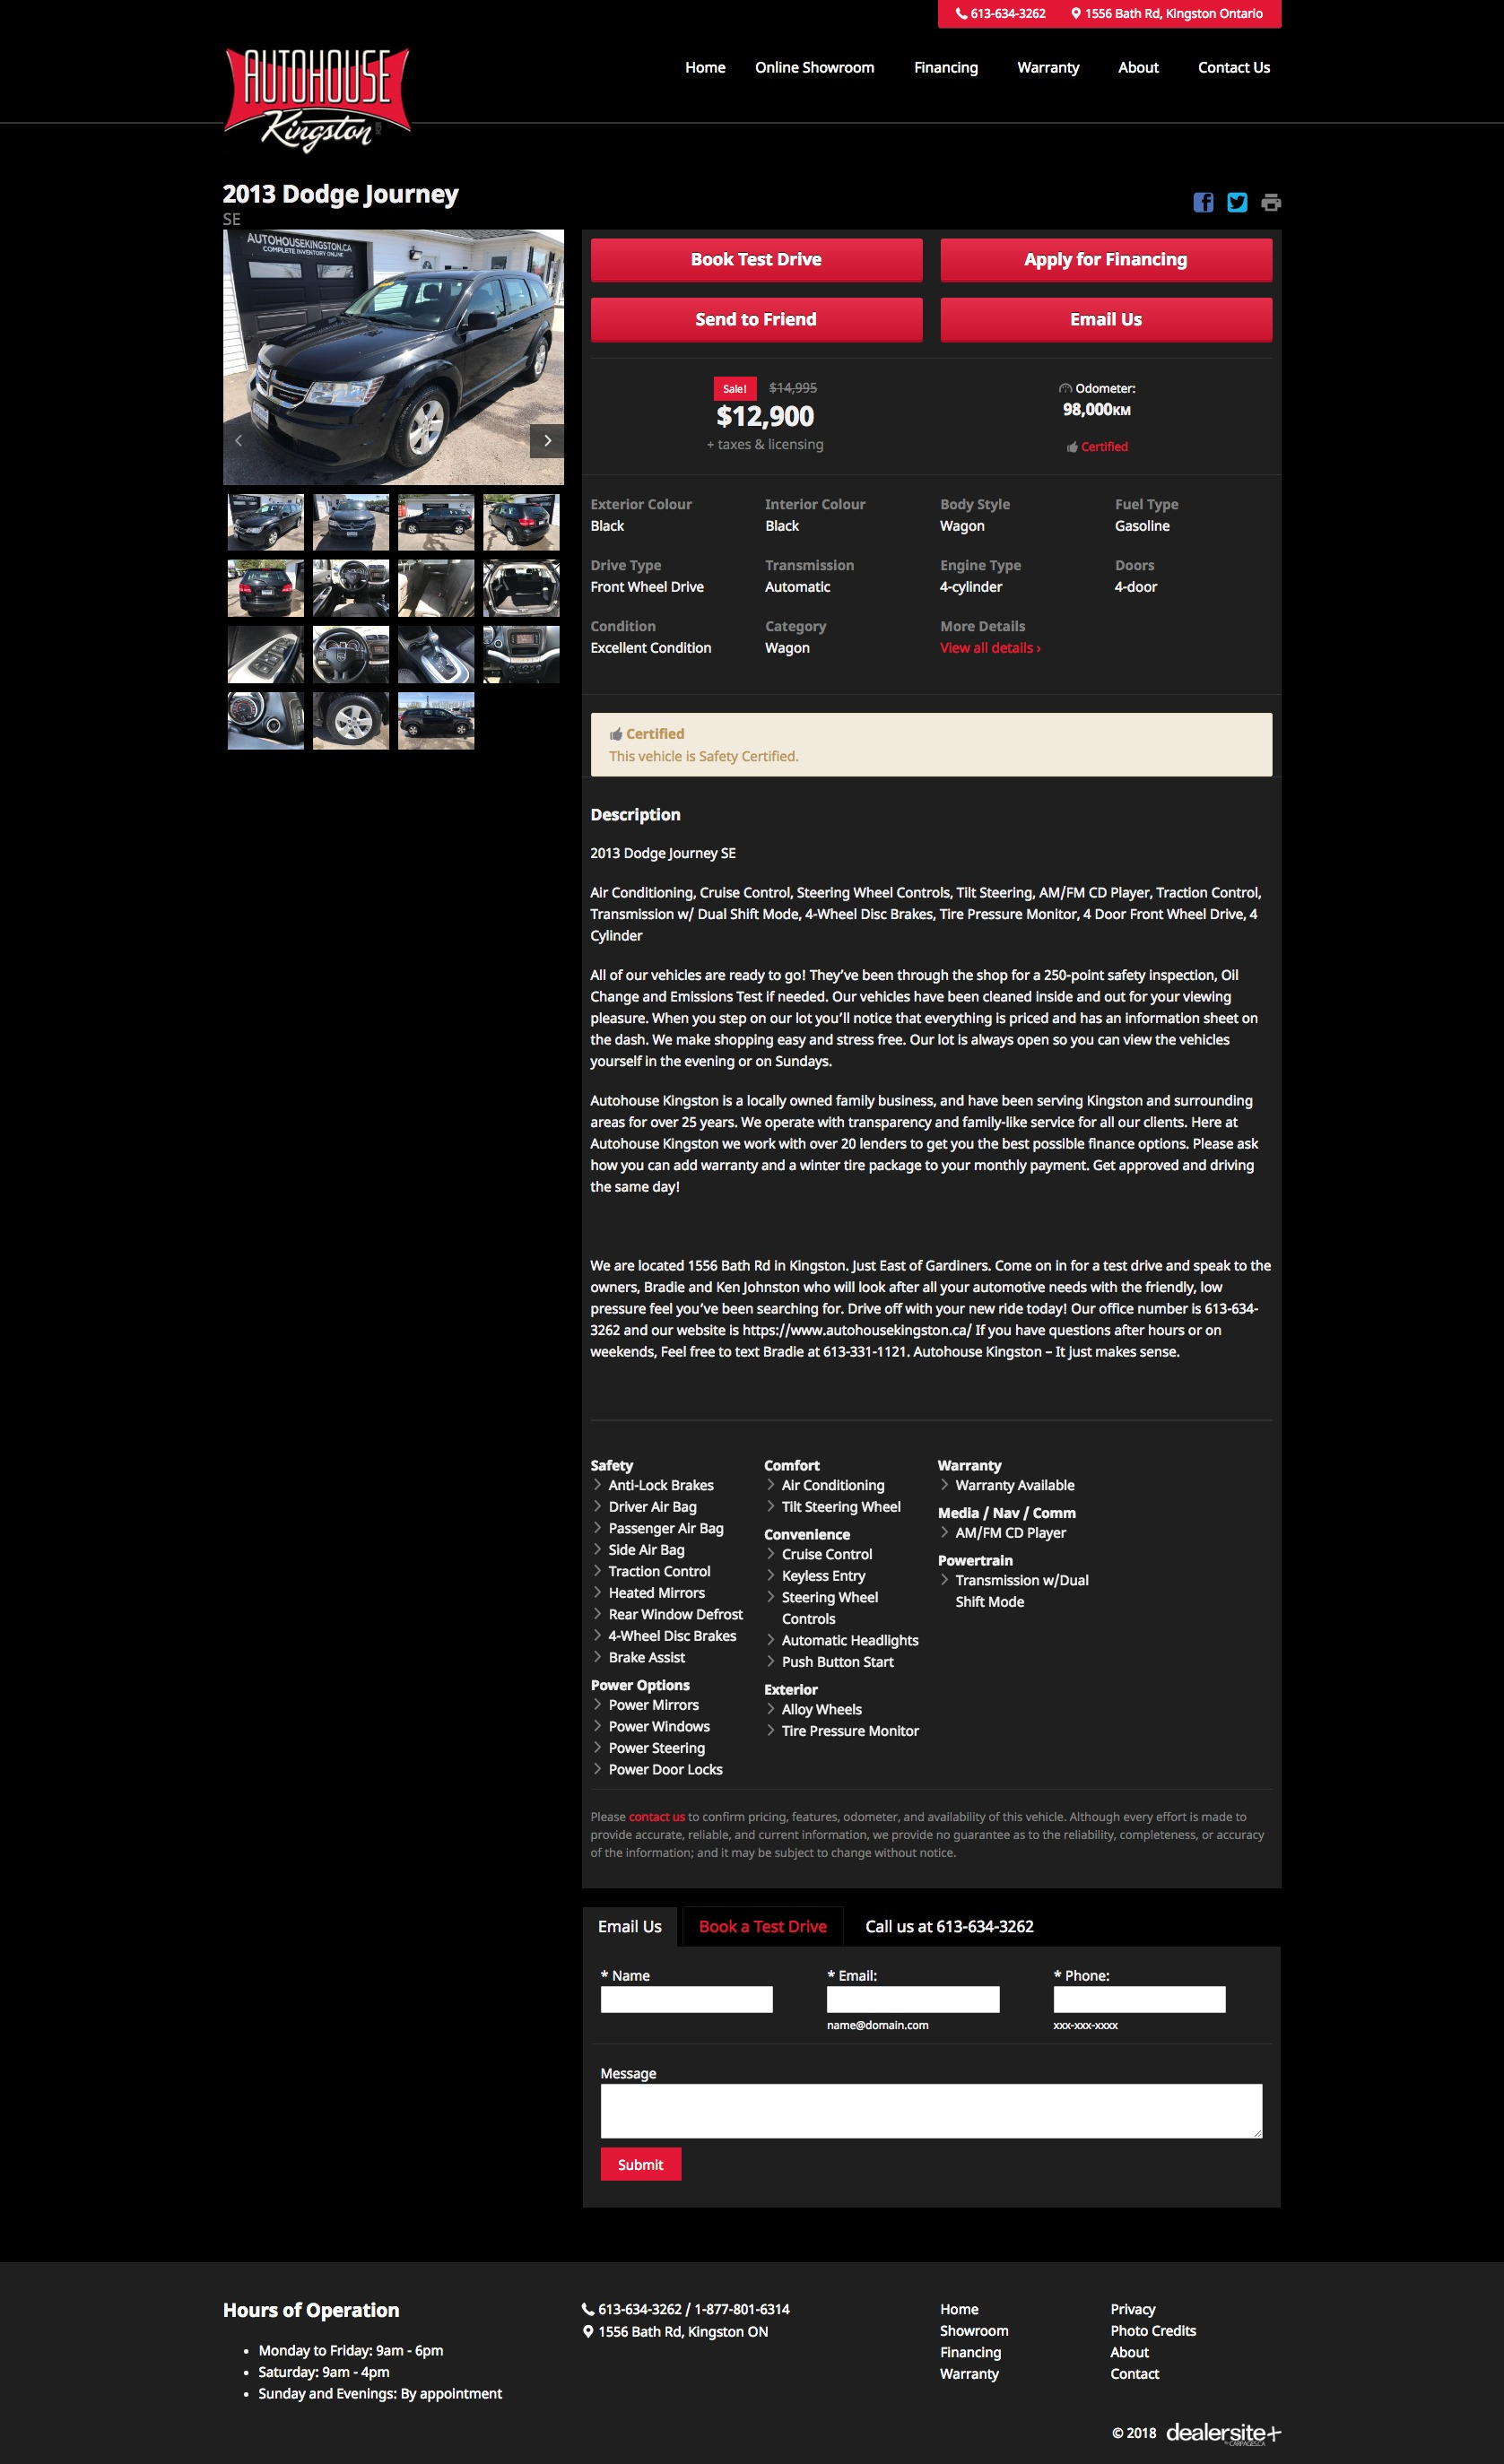car: (528, 422, 567, 461)
